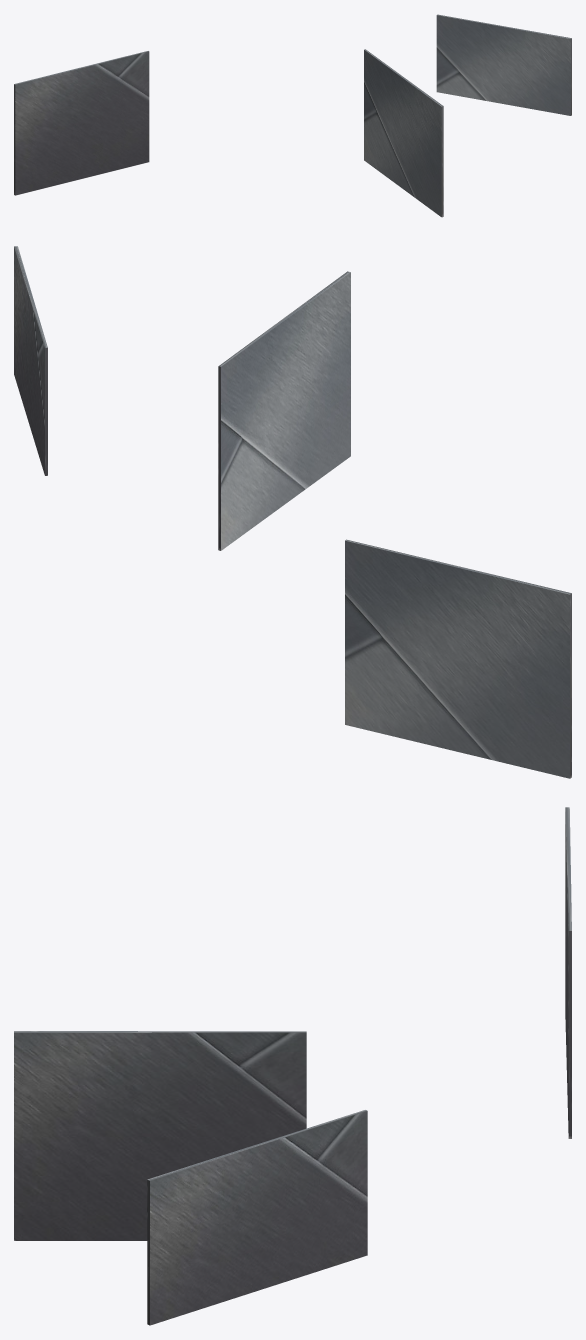
The model's file is tutorial_doors.fbx.
3 renders of one model, top to bottom at view 1: azimuth 30°, elevation 25°; view 2: azimuth 150°, elevation 25°; view 3: azimuth 270°, elevation 25°, orthographic. The views are drawn at different scales.
Parts seen in each view (by area): view 1: pCube29, pCube40, pCube33; view 2: pCube29, pCube33, pCube40; view 3: pCube33, pCube40, pCube29.
Boxes of the visible parts, bbox=[...] form: pCube29: bbox=[14, 51, 149, 195]; pCube40: bbox=[436, 14, 571, 115]; pCube33: bbox=[364, 49, 443, 217]; pCube29: bbox=[345, 539, 571, 778]; pCube33: bbox=[218, 271, 350, 550]; pCube40: bbox=[14, 246, 47, 475]; pCube33: bbox=[14, 1031, 306, 1240]; pCube40: bbox=[147, 1110, 367, 1325]; pCube29: bbox=[565, 807, 571, 1138].
Bounding box in the file's own units: 2802 × 778 × 1616.
1 material, 1 textured.
